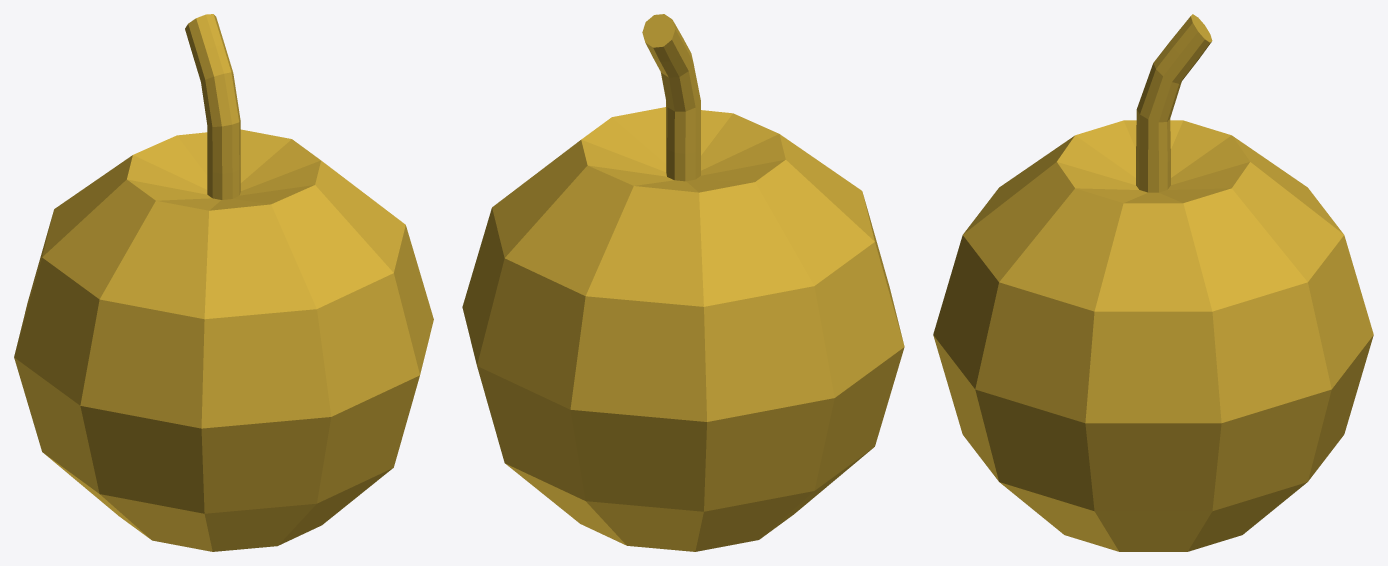
File: Goldcherry.fbx
3 views of the same model, side by side, from view 1: azimuth 30°, elevation 25°; view 2: azimuth 150°, elevation 25°; view 3: azimuth 270°, elevation 25° (orthographic). The views are drawn at different scales.
Parts seen in each view (by area): view 1: Sphere; view 2: Sphere; view 3: Sphere.
Part boxes in pixels (left/top/right/bottom): Sphere: left=14, top=14, right=433, bottom=551; Sphere: left=462, top=14, right=904, bottom=551; Sphere: left=933, top=14, right=1373, bottom=551.
Size of the model in its own units: 190 by 260 by 200.
